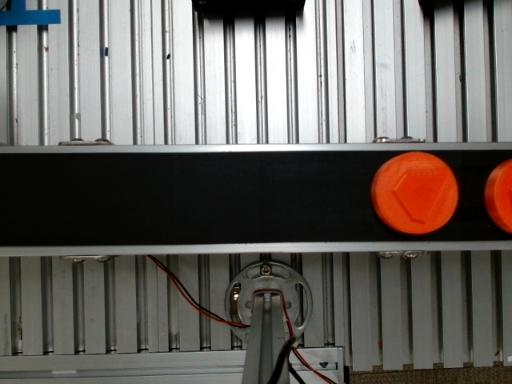Not_Square: (392, 170, 450, 223)
Orange_Waper: (372, 152, 458, 234), (485, 160, 511, 233)
